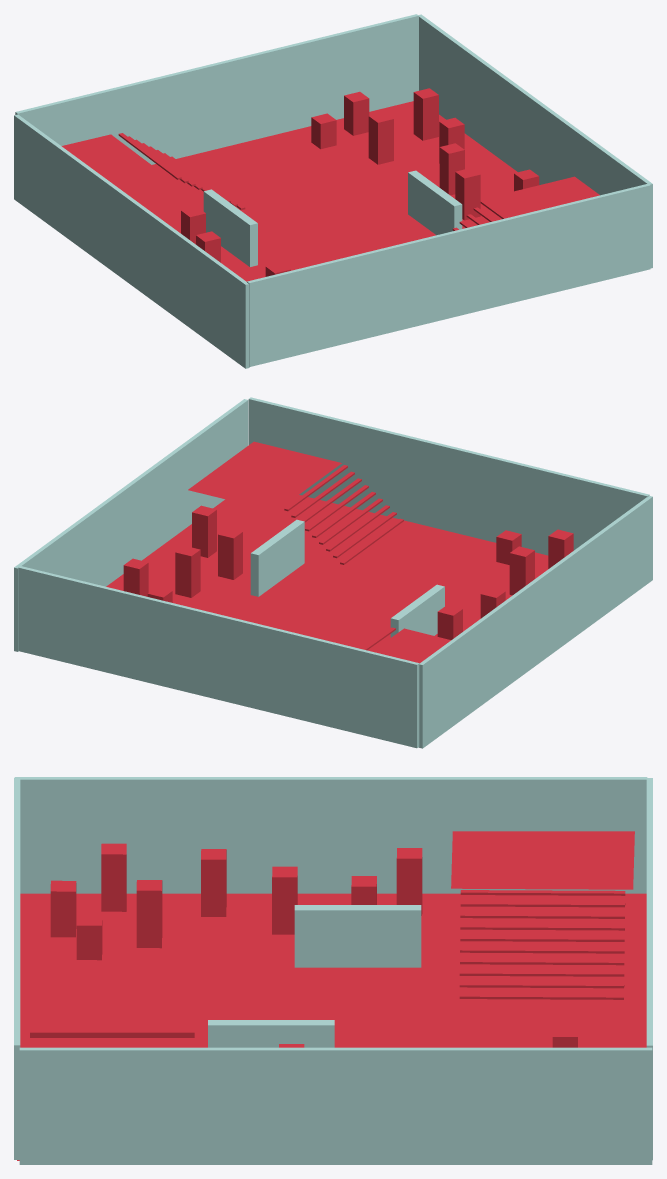
The model's file is LobbyMap4.fbx.
3 views of the same model, one above another, from view 1: azimuth 30°, elevation 25°; view 2: azimuth 150°, elevation 25°; view 3: azimuth 270°, elevation 25° (orthographic). The views are drawn at different scales.
Visible parts, largest first — view 1: Floor.001; view 2: Floor.001; view 3: Floor.001.
Boxes of the visible parts, box(x1,y1,x2,y2) form: Floor.001: box(14, 14, 652, 368); Floor.001: box(14, 397, 652, 748); Floor.001: box(14, 777, 652, 1164).
Size of the model in its own units: 10200 by 2057 by 10100.
